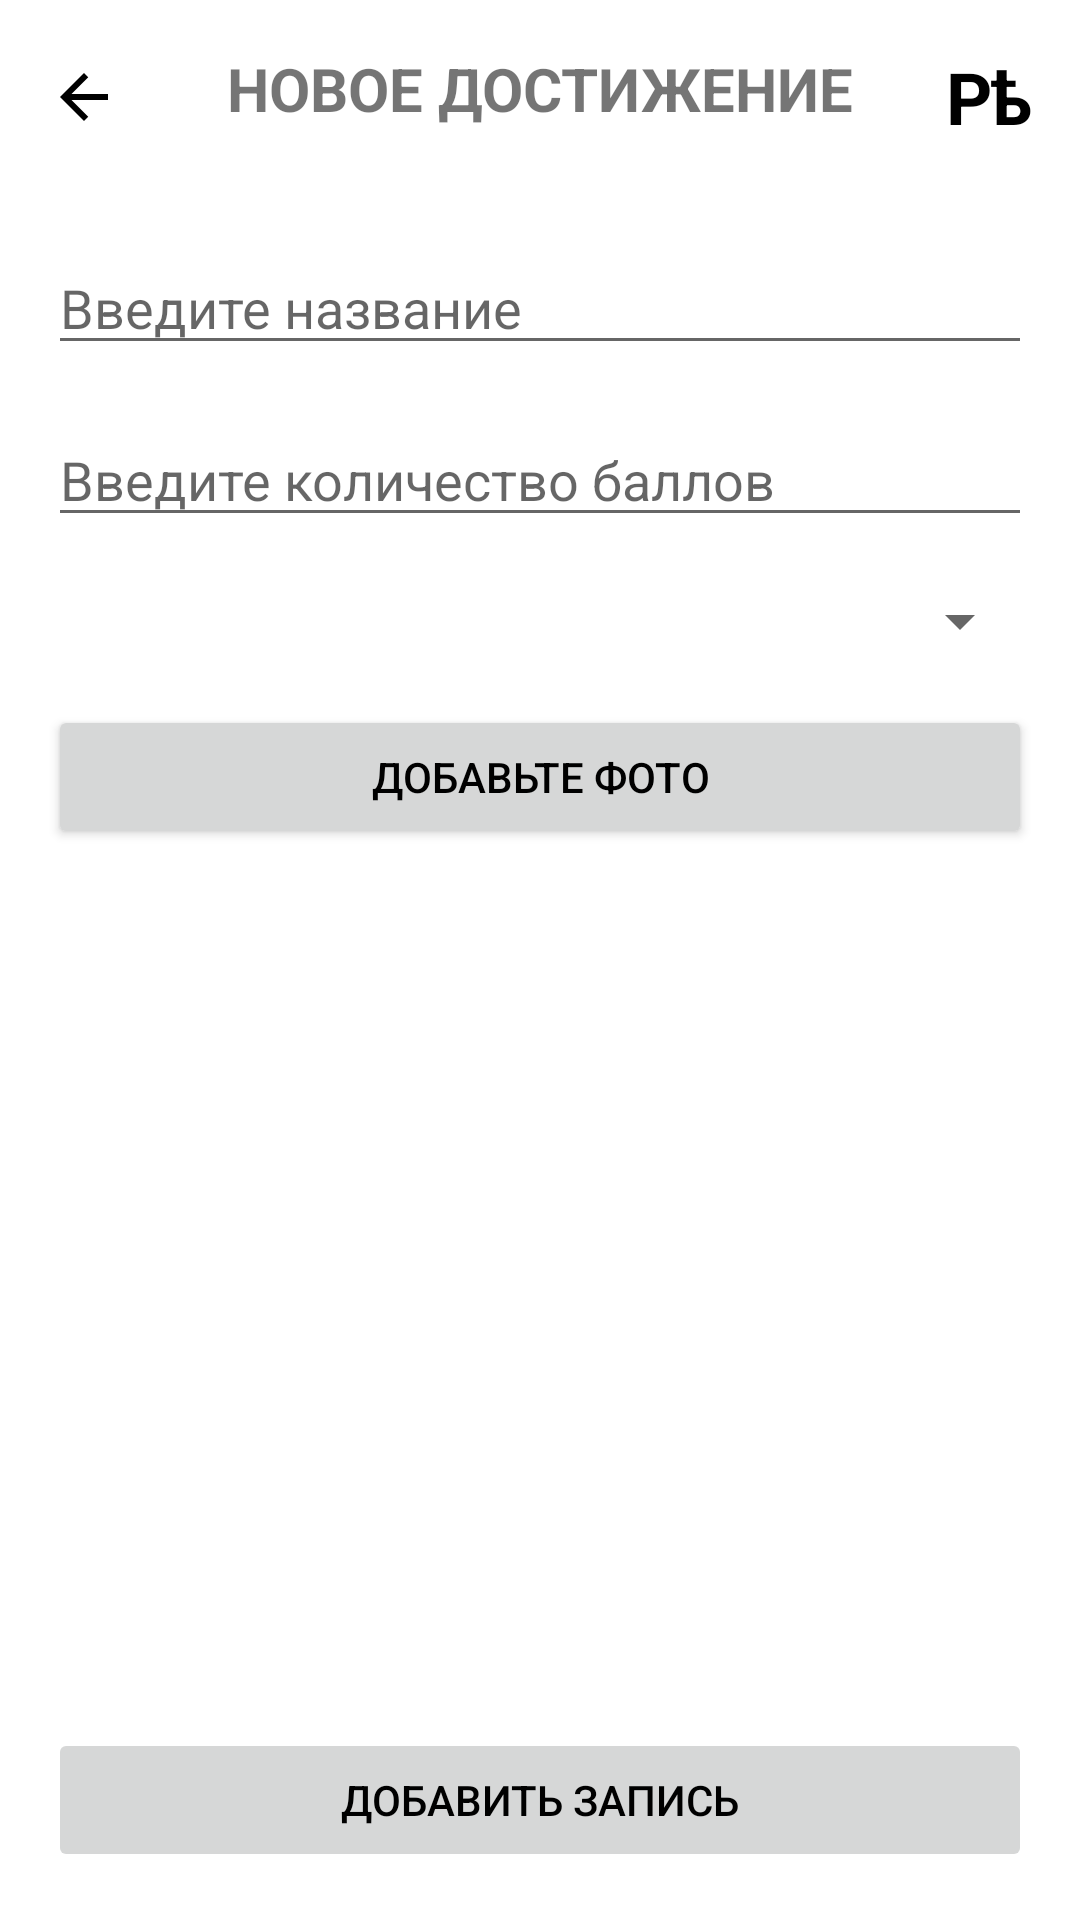

Where to tap for icons on this 1080*1920 app screen, as [x,y]:
back: [84,97]
